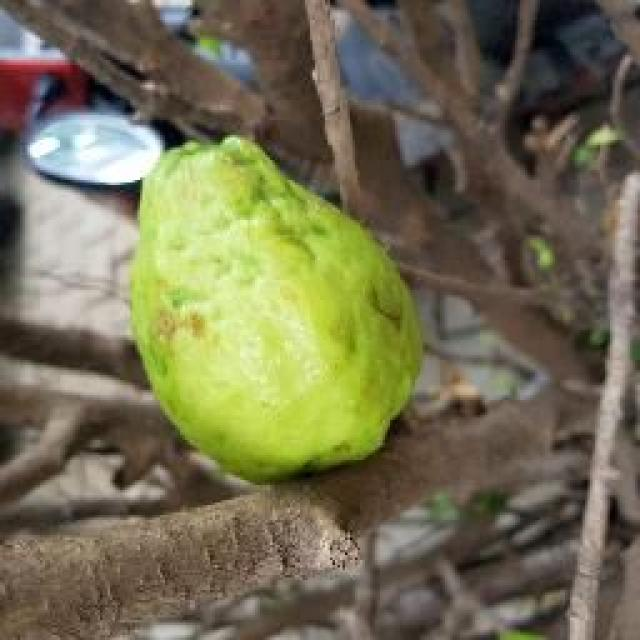Good_Guava: (128, 135, 422, 488)
